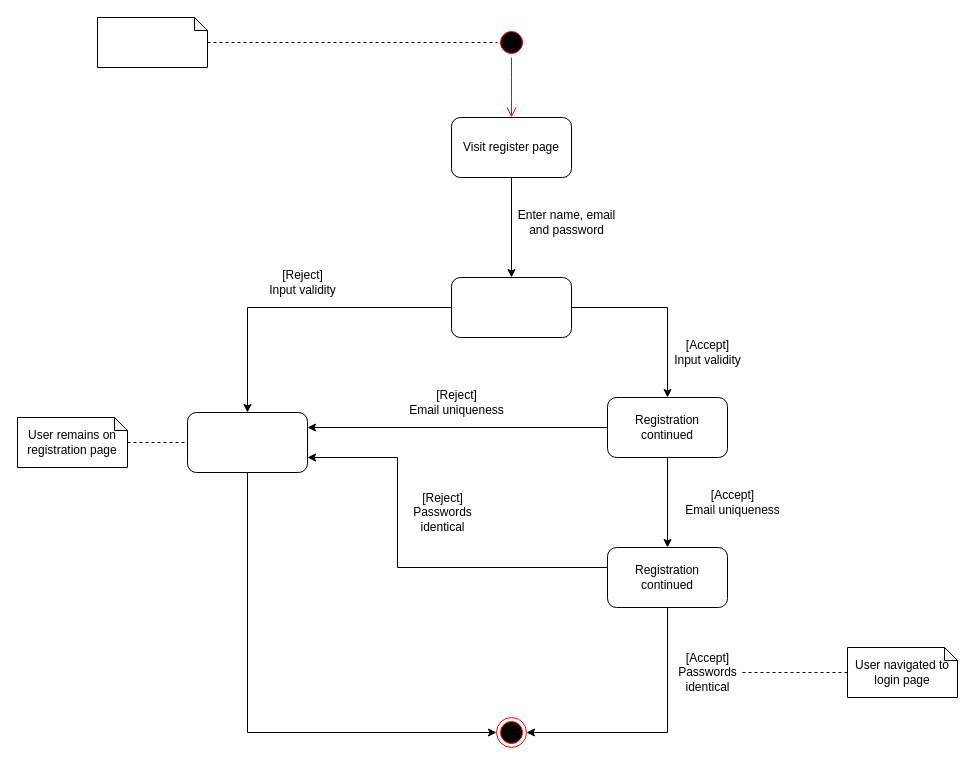
The diagram is 975 pixels wide and 765 high, and some of its shapes have lost their labels. The shapes that lost their labels are listed below. From the top down, each one's centre as x and y in pixels, then its label:
At (152,42): "Navigated to register".
At (511,307): "Unprocessed request".
At (247,442): "Registration request rejected".
